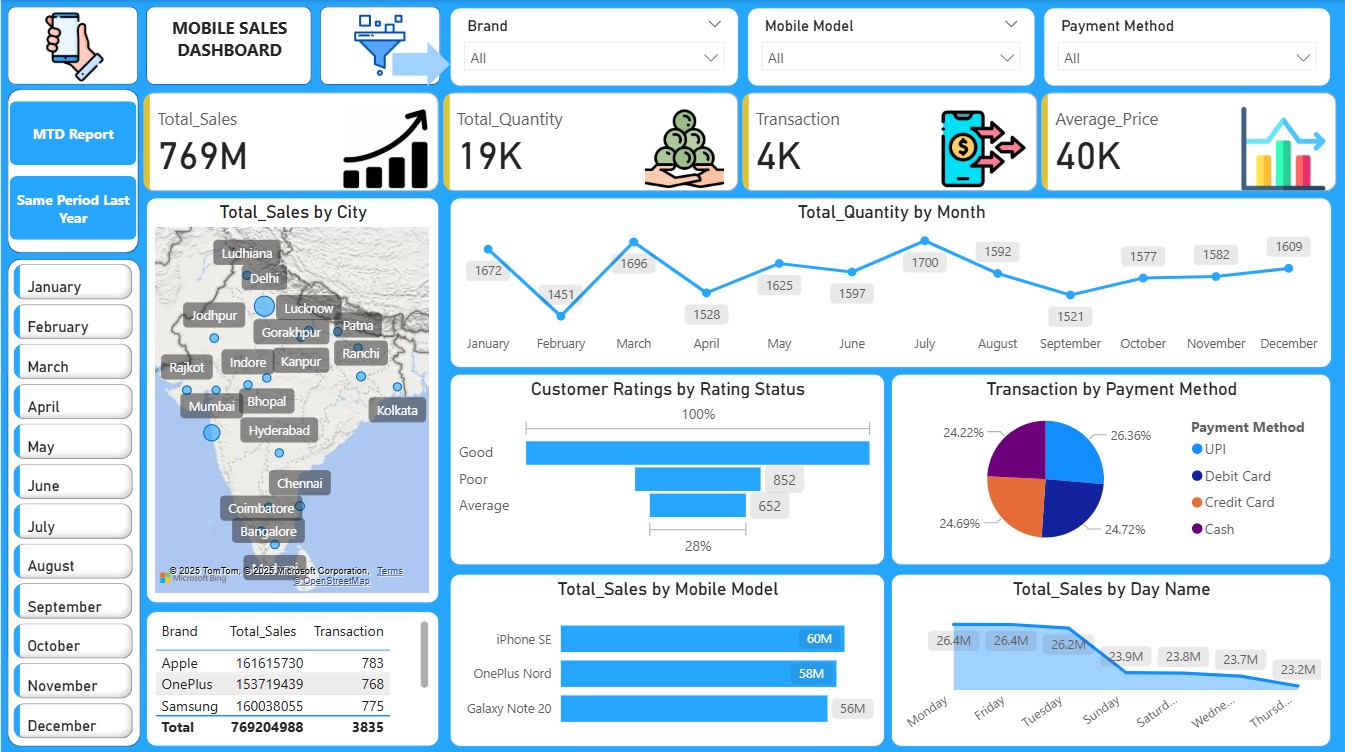

The page's visual inventory and layout, read from the dashboard file:
{"tool":"powerbi","page":{"name":"Dashboard for Mobiles Sales Data","canvas":[1280,720],"ordinal":0},"visuals":[{"type":"shape","box":[6,6,125,75],"z":0},{"type":"image","box":[8.3,7.1,123.8,75],"z":1000},{"type":"shape","box":[6,246.4,127.4,465.5],"z":2000},{"type":"advancedSlicerVisual","fields":{"Values":["Custom_Calender.Date.Variation.Date Hierarchy.Month"]},"box":[7.3,246.3,123.2,464.6],"z":3000},{"type":"shape","box":[6,84.4,125.4,156.7],"z":4000},{"type":"cardVisual","fields":{"Data":["Mobiles_Sales_Data.Total_Sales","Mobiles_Sales_Data.Total_Quantity","Mobiles_Sales_Data.Transaction","Mobiles_Sales_Data.Average_Price"]},"box":[131.4,83.2,1148.8,104.9],"z":5000},{"type":"slicer","fields":{"Values":["Mobiles_Sales_Data.Brand"]},"box":[427,7,275,75],"z":6000},{"type":"shape","box":[303,6,115,75],"z":7000},{"type":"image","box":[303,8,114,70],"z":8000},{"type":"shape","box":[372.4,39.1,55.2,43.7],"z":9000},{"type":"shape","box":[138,6,158,75],"z":10000},{"type":"slicer","fields":{"Values":["Mobiles_Sales_Data.Mobile Model"]},"box":[711,7,274,75],"z":11000},{"type":"slicer","fields":{"Values":["Mobiles_Sales_Data.Payment Method"]},"box":[992.9,7.1,273.8,75],"z":12000},{"type":"textbox","box":[145,10,145,67],"z":13000},{"type":"map","fields":{"Category":["Mobiles_Sales_Data.City"],"Size":["Mobiles_Sales_Data.Total_Sales"]},"box":[138,188,279,386],"z":14000},{"type":"lineChart","fields":{"Y":["Mobiles_Sales_Data.Total_Quantity"],"Category":["Custom_Calender.Date.Variation.Date Hierarchy.Month"]},"box":[427,188,840,162],"z":15000},{"type":"funnel","title":"Customer Ratings by Rating Status","fields":{"Y":["CountNonNull(Mobiles_Sales_Data.Customer Ratings)"],"Category":["Mobiles_Sales_Data.Rating Status"]},"box":[427,356,414,182],"z":16000},{"type":"pieChart","fields":{"Category":["Mobiles_Sales_Data.Payment Method"],"Y":["Mobiles_Sales_Data.Transaction"]},"box":[848,356,419,182],"z":17000},{"type":"clusteredBarChart","fields":{"Y":["Mobiles_Sales_Data.Total_Sales"],"Category":["Mobiles_Sales_Data.Mobile Model"]},"box":[427,546,414,165],"z":18000},{"type":"areaChart","fields":{"Y":["Mobiles_Sales_Data.Total_Sales"],"Category":["Custom_Calender.Day Name"]},"box":[848,546,419,165],"z":19000},{"type":"tableEx","fields":{"Values":["Mobiles_Sales_Data.Brand","Mobiles_Sales_Data.Total_Sales","Mobiles_Sales_Data.Transaction"]},"box":[138,582,279,129],"z":20000},{"type":"pageNavigator","box":[8.3,96.4,121.4,133.3],"z":20001}]}

Visuals, with their boxes in screenshot pixels (x1, y1, x2, y2), scaled from the page's 1280x720 canvas onto the 1345x752 screenshot:
shape: detection(6, 6, 138, 85)
image: detection(9, 7, 139, 86)
shape: detection(6, 257, 140, 744)
advancedSlicerVisual - Custom_Calender.Date.Variation.Date Hierarchy.Month: detection(8, 257, 137, 742)
shape: detection(6, 88, 138, 252)
cardVisual - Mobiles_Sales_Data.Total_Sales x Mobiles_Sales_Data.Total_Quantity: detection(138, 87, 1344, 196)
slicer - Mobiles_Sales_Data.Brand: detection(449, 7, 738, 86)
shape: detection(318, 6, 439, 85)
image: detection(318, 8, 438, 81)
shape: detection(391, 41, 449, 86)
shape: detection(145, 6, 311, 85)
slicer - Mobiles_Sales_Data.Mobile Model: detection(747, 7, 1035, 86)
slicer - Mobiles_Sales_Data.Payment Method: detection(1043, 7, 1331, 86)
textbox: detection(152, 10, 305, 80)
map - Mobiles_Sales_Data.City x Mobiles_Sales_Data.Total_Sales: detection(145, 196, 438, 600)
lineChart - Mobiles_Sales_Data.Total_Quantity x Custom_Calender.Date.Variation.Date Hierarchy.Month: detection(449, 196, 1331, 366)
"Customer Ratings by Rating Status" funnel: detection(449, 372, 884, 562)
pieChart - Mobiles_Sales_Data.Payment Method x Mobiles_Sales_Data.Transaction: detection(891, 372, 1331, 562)
clusteredBarChart - Mobiles_Sales_Data.Total_Sales x Mobiles_Sales_Data.Mobile Model: detection(449, 570, 884, 743)
areaChart - Mobiles_Sales_Data.Total_Sales x Custom_Calender.Day Name: detection(891, 570, 1331, 743)
tableEx - Mobiles_Sales_Data.Brand x Mobiles_Sales_Data.Total_Sales: detection(145, 608, 438, 743)
pageNavigator: detection(9, 101, 136, 240)
